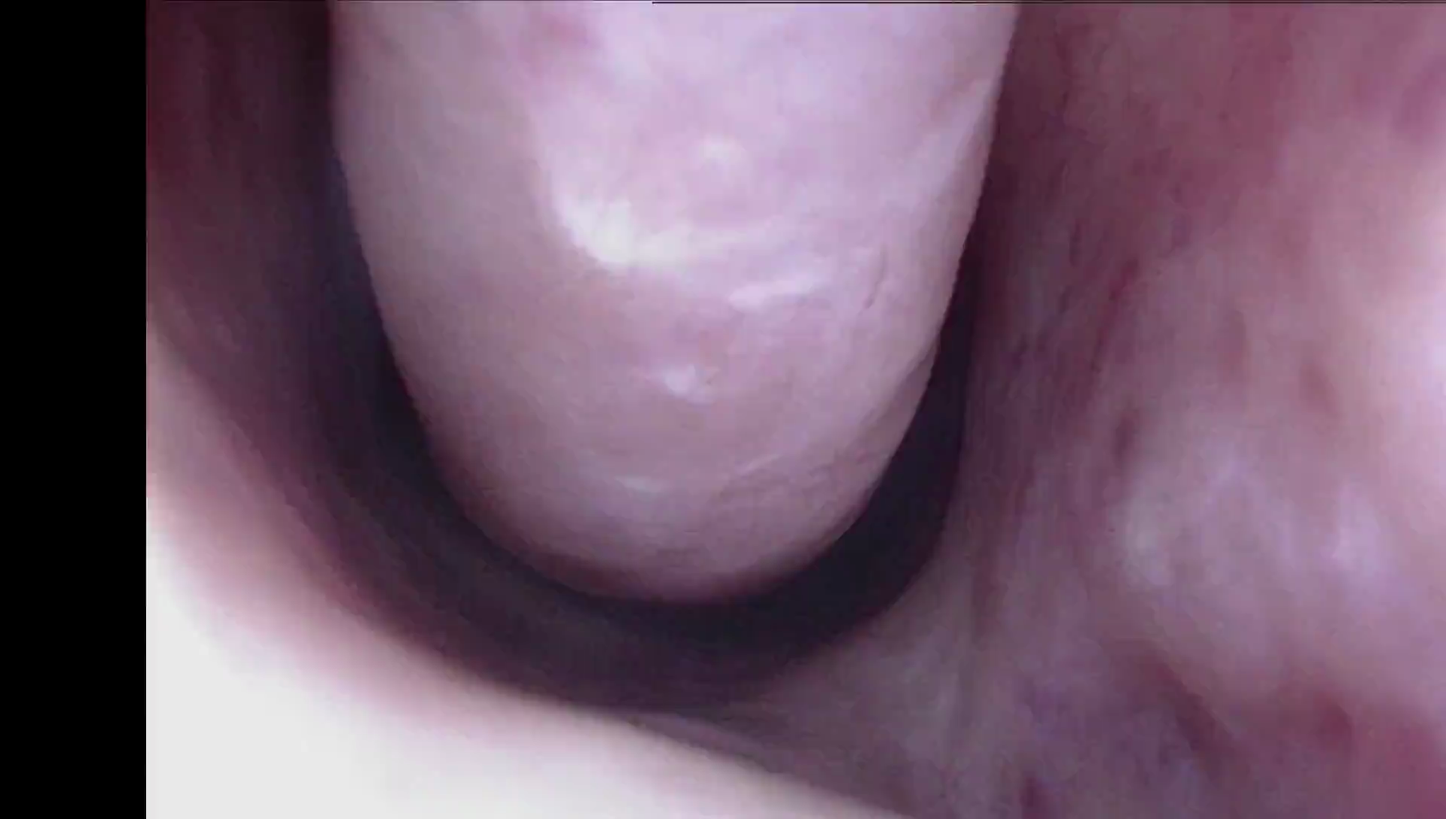close_wall: (1080, 44, 1446, 723), (434, 0, 947, 403), (152, 593, 874, 819)
next: (696, 180, 1035, 668), (295, 147, 550, 648), (487, 476, 976, 684)
